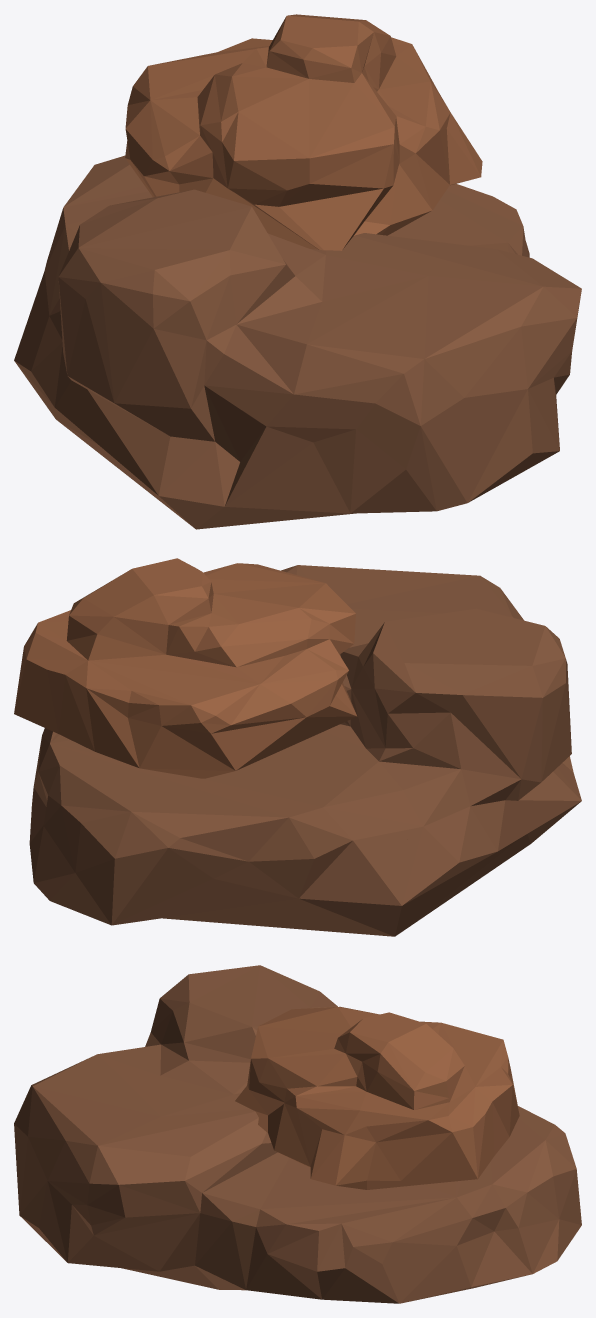
File: engel3.fbx
The picture shows the model from 3 angles, top to bottom: view 1: azimuth 30°, elevation 25°; view 2: azimuth 150°, elevation 25°; view 3: azimuth 270°, elevation 25°; orthographic projection. The views are drawn at different scales.
Parts seen in each view (by area): view 1: SM_Env_RockFlat_008_Part_2, SM_Env_RockFlat_008_Part_3, SM_Env_RockFlat_009_Part_1, SM_Env_RockFlat_008_Part_8, SM_Env_RockFlat_009_Part_4, SM_Env_RockFlat_009_Part_3, SM_Env_RockFlat_009_Part_2, SM_Env_RockFlat_008_Part_4, SM_Env_RockFlat_009_Part_9, SM_Env_RockFlat_009_Part_6, SM_Env_RockFlat_008_Part_9, SM_Env_RockFlat_008_Part_1 (+4 smaller); view 2: SM_Env_RockFlat_008_Part_8, SM_Env_RockFlat_008_Part_5, SM_Env_RockFlat_008_Part_6, SM_Env_RockFlat_009_Part_5, SM_Env_RockFlat_008_Part_2, SM_Env_RockFlat_009_Part_6, SM_Env_RockFlat_009_Part_4, SM_Env_RockFlat_009_Part_8, SM_Env_RockFlat_008_Part_4, SM_Env_RockFlat_009_Part_1, SM_Env_RockFlat_009_Part_9, SM_Env_RockFlat_008_Part_3 (+5 smaller); view 3: SM_Env_RockFlat_008_Part_3, SM_Env_RockFlat_009_Part_9, SM_Env_RockFlat_008_Part_7, SM_Env_RockFlat_008_Part_2, SM_Env_RockFlat_008_Part_1, SM_Env_RockFlat_008_Part_6, SM_Env_RockFlat_008_Part_9, SM_Env_RockFlat_009_Part_1, SM_Env_RockFlat_008_Part_4, SM_Env_RockFlat_009_Part_6, SM_Env_RockFlat_009_Part_5, SM_Env_RockFlat_008_Part_10 (+3 smaller).
Part boxes in pixels (left/top/right/bottom): SM_Env_RockFlat_008_Part_2: left=63, top=232, right=489, bottom=529; SM_Env_RockFlat_008_Part_3: left=439, top=247, right=581, bottom=491; SM_Env_RockFlat_009_Part_1: left=232, top=65, right=438, bottom=235; SM_Env_RockFlat_008_Part_8: left=22, top=195, right=165, bottom=500; SM_Env_RockFlat_009_Part_4: left=127, top=73, right=261, bottom=197; SM_Env_RockFlat_009_Part_3: left=293, top=151, right=395, bottom=250; SM_Env_RockFlat_009_Part_2: left=189, top=128, right=300, bottom=243; SM_Env_RockFlat_008_Part_4: left=128, top=189, right=381, bottom=287; SM_Env_RockFlat_009_Part_9: left=367, top=24, right=482, bottom=201; SM_Env_RockFlat_009_Part_6: left=219, top=14, right=378, bottom=86; SM_Env_RockFlat_008_Part_9: left=333, top=235, right=479, bottom=308; SM_Env_RockFlat_008_Part_1: left=388, top=186, right=529, bottom=257; SM_Env_RockFlat_008_Part_8: left=237, top=653, right=548, bottom=936; SM_Env_RockFlat_008_Part_5: left=193, top=775, right=430, bottom=932; SM_Env_RockFlat_008_Part_6: left=38, top=751, right=229, bottom=925; SM_Env_RockFlat_009_Part_5: left=36, top=651, right=194, bottom=774; SM_Env_RockFlat_008_Part_2: left=384, top=571, right=581, bottom=867; SM_Env_RockFlat_009_Part_6: left=50, top=558, right=244, bottom=667; SM_Env_RockFlat_009_Part_4: left=217, top=606, right=348, bottom=748; SM_Env_RockFlat_009_Part_8: left=186, top=667, right=295, bottom=777; SM_Env_RockFlat_008_Part_4: left=309, top=614, right=487, bottom=738; SM_Env_RockFlat_009_Part_1: left=203, top=563, right=321, bottom=614; SM_Env_RockFlat_009_Part_9: left=14, top=591, right=93, bottom=725; SM_Env_RockFlat_008_Part_3: left=281, top=565, right=407, bottom=595; SM_Env_RockFlat_008_Part_3: left=26, top=1108, right=242, bottom=1271; SM_Env_RockFlat_009_Part_9: left=286, top=1063, right=487, bottom=1189; SM_Env_RockFlat_008_Part_7: left=316, top=1196, right=545, bottom=1303; SM_Env_RockFlat_008_Part_2: left=14, top=965, right=261, bottom=1224; SM_Env_RockFlat_008_Part_1: left=225, top=1139, right=389, bottom=1298; SM_Env_RockFlat_008_Part_6: left=465, top=1116, right=581, bottom=1266; SM_Env_RockFlat_008_Part_9: left=105, top=1084, right=265, bottom=1289; SM_Env_RockFlat_009_Part_1: left=248, top=1007, right=358, bottom=1167; SM_Env_RockFlat_008_Part_4: left=180, top=983, right=307, bottom=1140; SM_Env_RockFlat_009_Part_6: left=339, top=1012, right=471, bottom=1110; SM_Env_RockFlat_009_Part_5: left=458, top=1039, right=519, bottom=1165; SM_Env_RockFlat_008_Part_10: left=389, top=1180, right=503, bottom=1238.
Bounding box in the file's own units: 417 × 263 × 516.
Materials: 2 (2 with a texture image).
